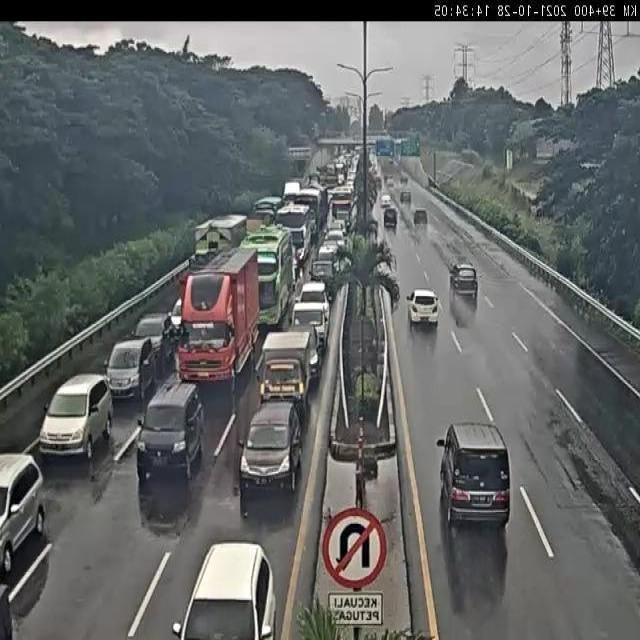Bus: (246, 222, 296, 326), (276, 203, 313, 261)
Car: (174, 538, 277, 640), (40, 373, 114, 464), (236, 404, 301, 496), (0, 451, 45, 573), (104, 335, 161, 400), (128, 313, 178, 367), (406, 288, 442, 331), (296, 280, 334, 316), (448, 262, 478, 298), (309, 258, 336, 294), (167, 299, 184, 334), (380, 193, 392, 206)
Truck: (174, 245, 260, 388), (254, 326, 311, 409), (188, 212, 251, 269), (252, 196, 284, 221)
Van: (437, 423, 512, 529)
